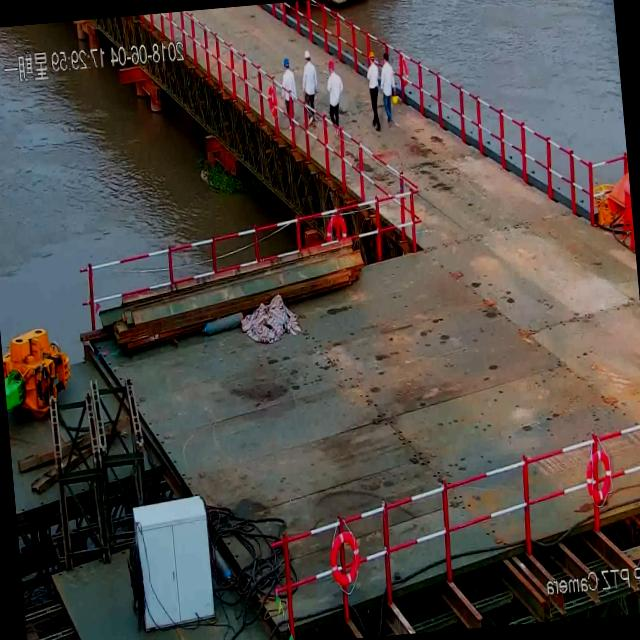helmet: (323, 56, 338, 72), (280, 54, 293, 69), (300, 47, 312, 62), (366, 46, 375, 64)
no-helmet: (382, 50, 391, 63)
no-vest: (322, 70, 342, 114), (300, 62, 318, 108), (378, 62, 396, 104), (280, 70, 298, 112), (364, 63, 380, 90)
